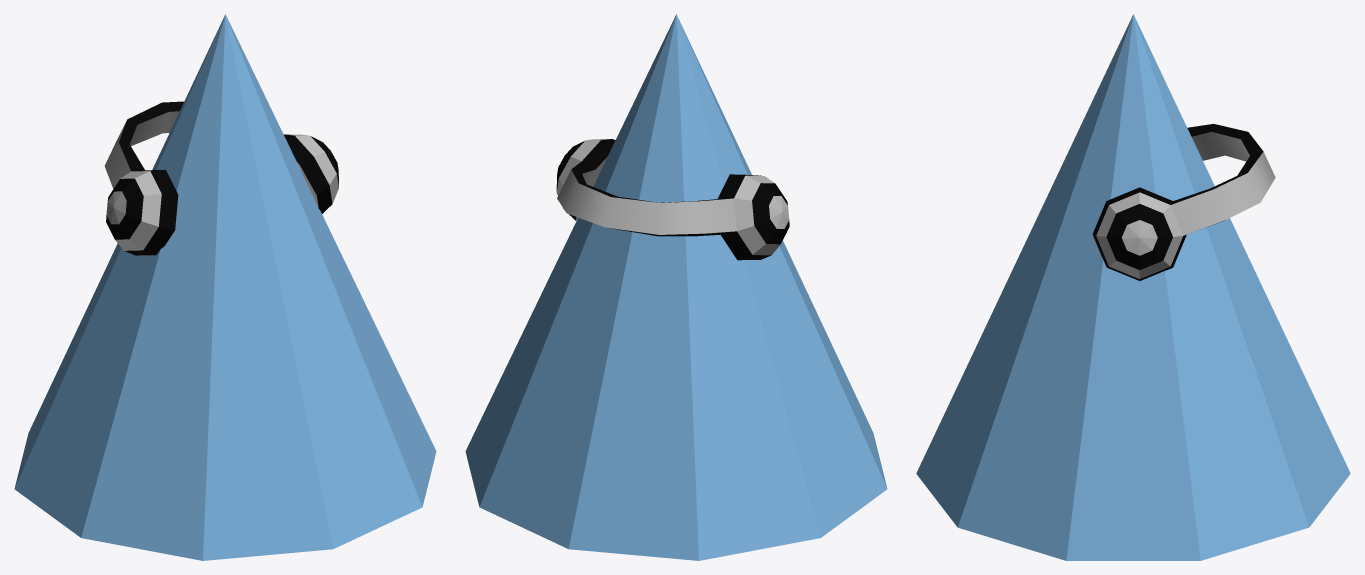
File: Earmuff_Villager.fbx
The picture shows the model from 3 angles, left to right: view 1: azimuth 30°, elevation 25°; view 2: azimuth 150°, elevation 25°; view 3: azimuth 270°, elevation 25°; orthographic projection.
Parts seen in each view (by area): view 1: earmuff_Villager, earmuffs2; view 2: earmuff_Villager, earmuffs2; view 3: earmuff_Villager, earmuffs2.
Boxes of the visible parts, x1,y1,x2,y2 form: earmuff_Villager: (14,14,436,560); earmuffs2: (104,101,338,255); earmuff_Villager: (465,14,887,560); earmuffs2: (556,139,789,260); earmuff_Villager: (916,14,1350,560); earmuffs2: (1092,124,1275,280).
Size of the model in its own units: 5.8 by 7.12 by 6.1.
